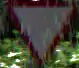Give way: (7, 0, 78, 63)
